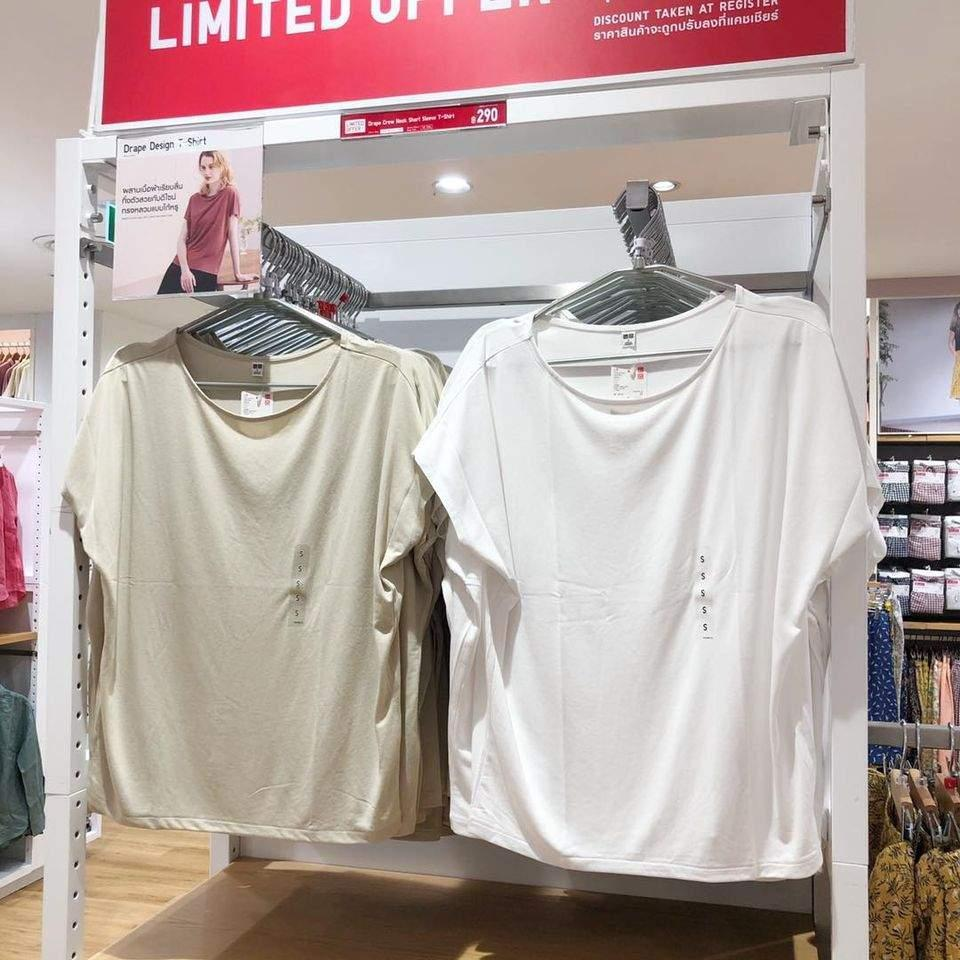Tshirt: (432, 296, 862, 872), (52, 338, 438, 842)
